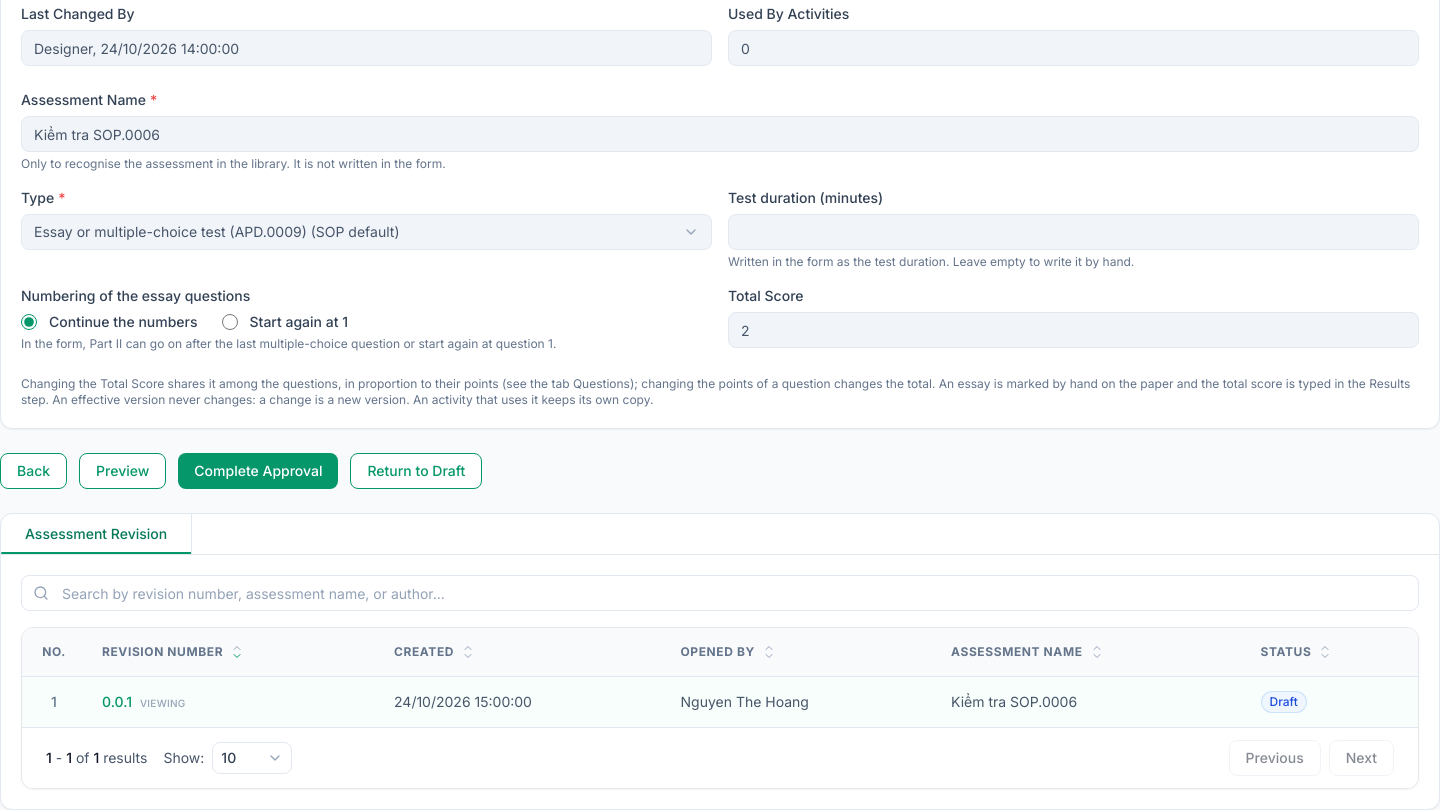
Test: the flow of the assessment › Return to Draft needs a reason
(page scrolled)
Click the button "Return to Draft".
click(416, 471)  # box [350,453,482,489]
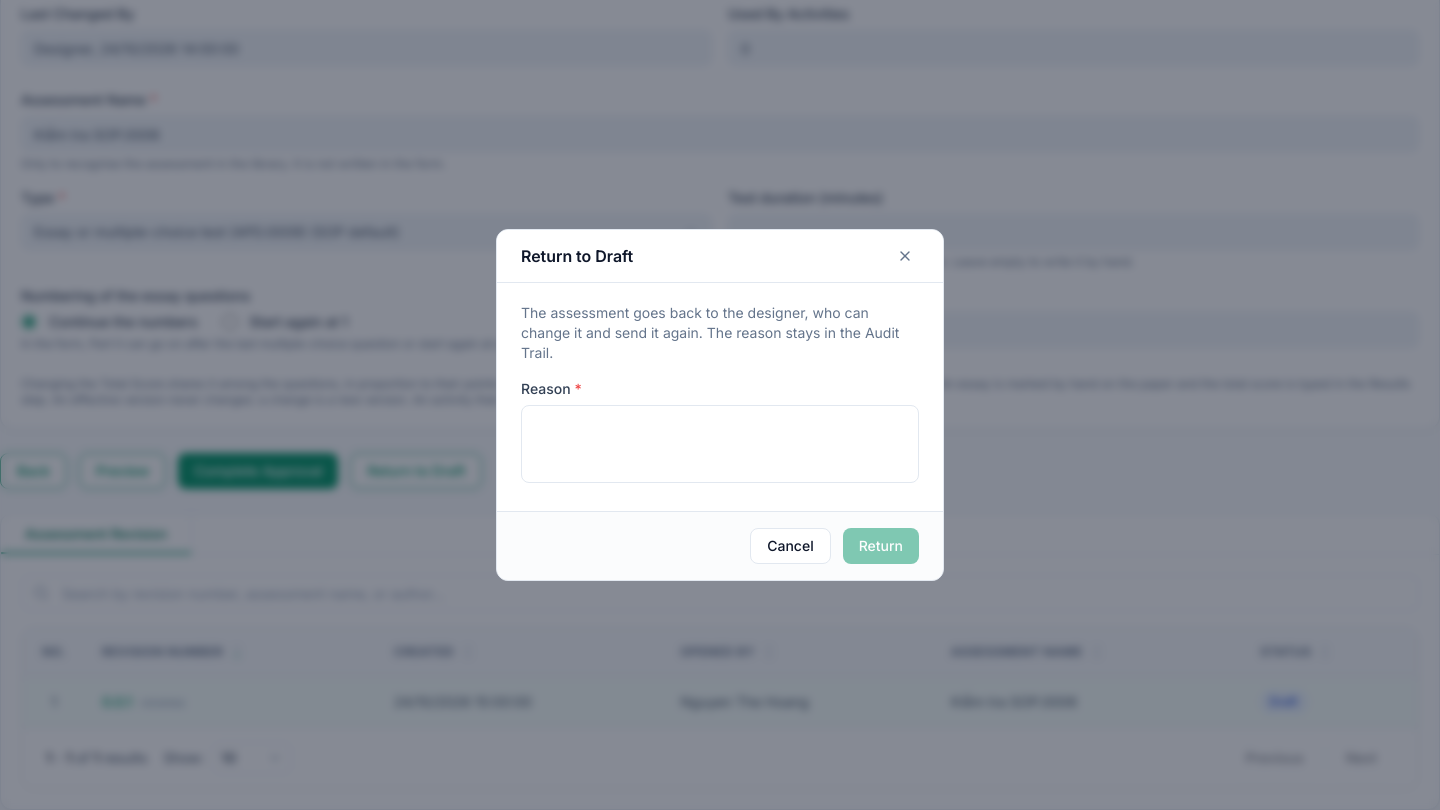
Check: the button "Return" is disabled, box [843,528,919,564]
Type "Câu 2 sai" into the text box labelled "Reason*".
click(720, 444); type("Câu 2 sai")  # box [521,405,919,483]
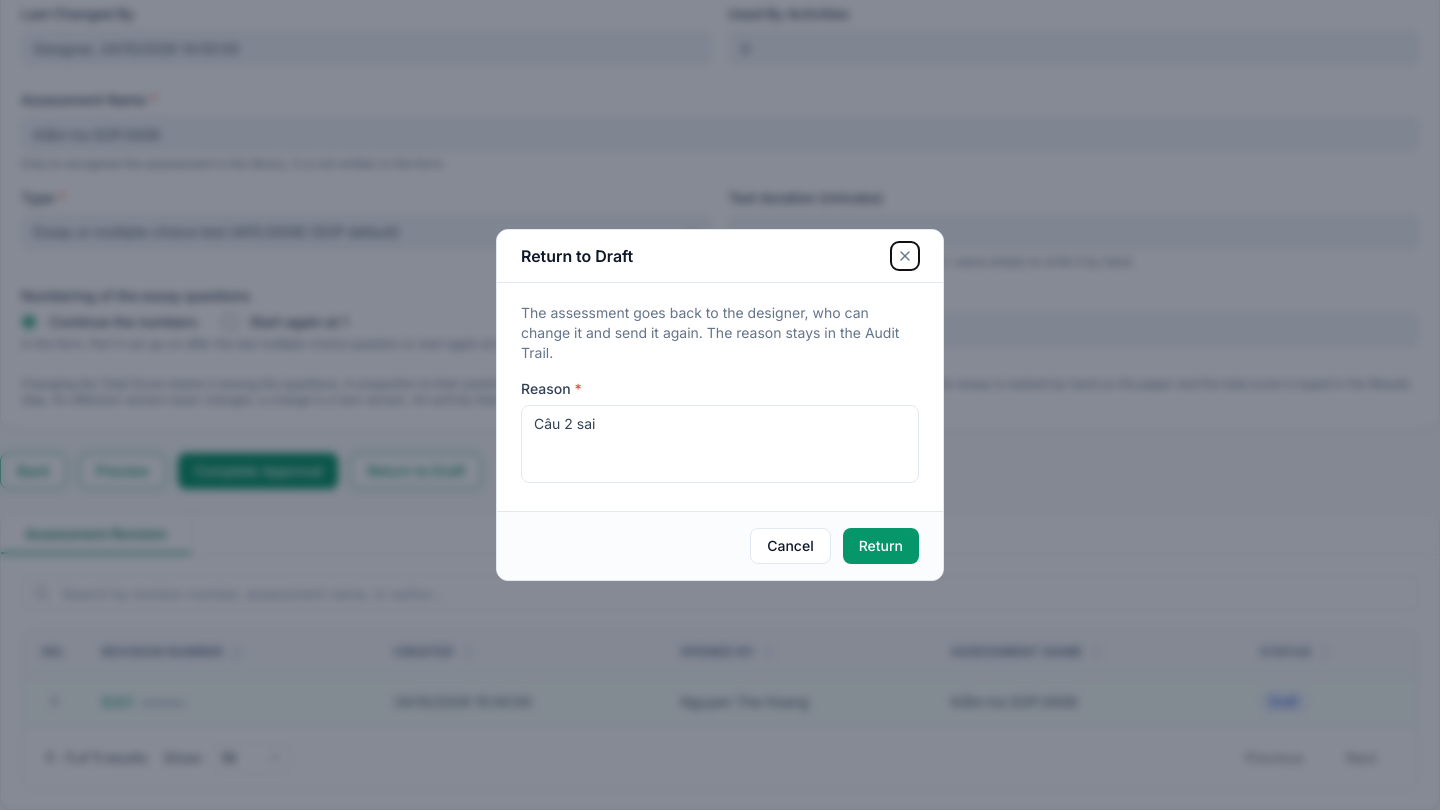
Check: the button "Return" is enabled
Click the button "Return".
click(881, 546)  # box [843,528,919,564]
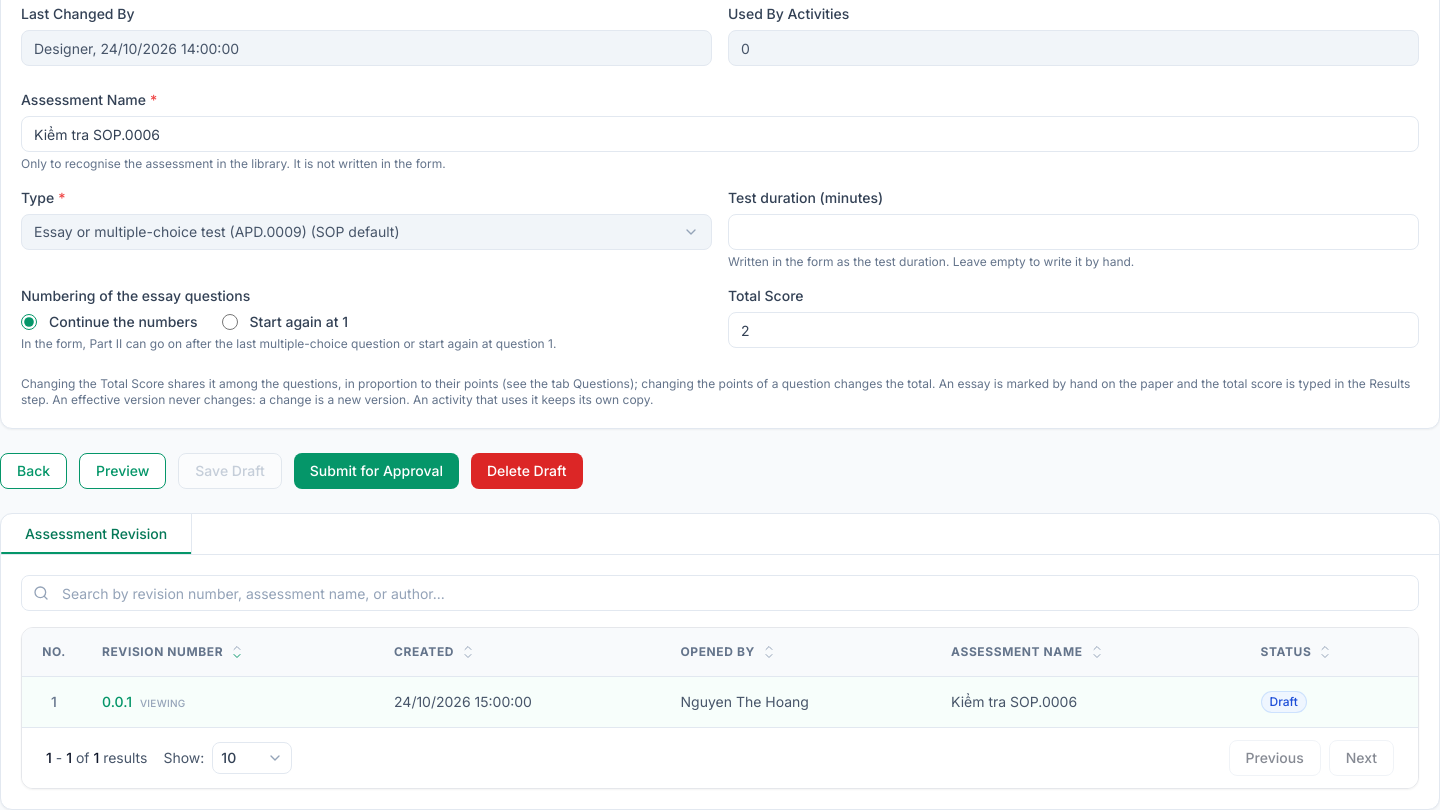
Check: the button "Submit for Approval" is shown, box [294,453,459,489]
